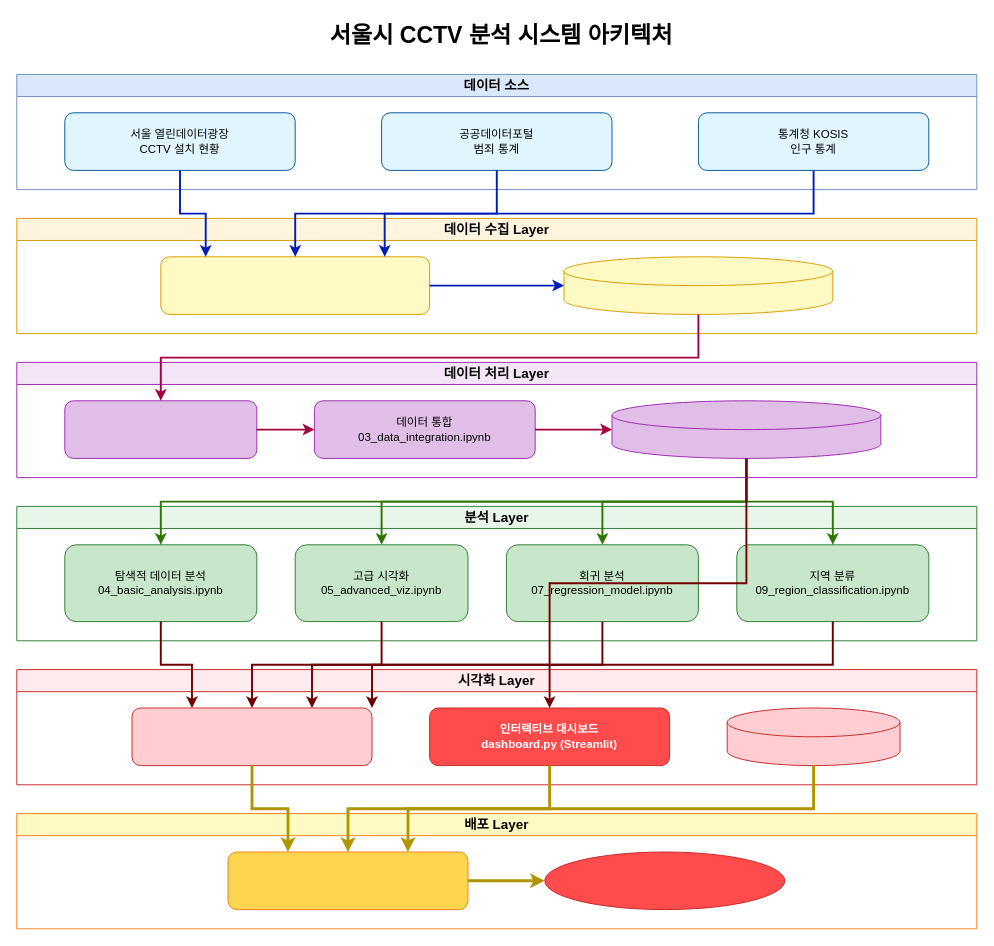
This 994x946 diagram has some shape labels left out. Each missing label, with the centre of its shape:
API 호출 모듈 fetch_seoul_data.py: (295,285)
GitHub Repository JungMoonYoung/CCTV-Analysis: (347,880)
Processed Data data/processed/: (746,429)
Raw Data Storage data/raw/: (698,285)
Streamlit Cloud 공개 URL: (664,880)
결과 파일 results/: (813,736)
데이터 정제 02_data_cleaning.ipynb: (160,429)
분석 리포트 FINAL_REPORT.md: (251,736)
